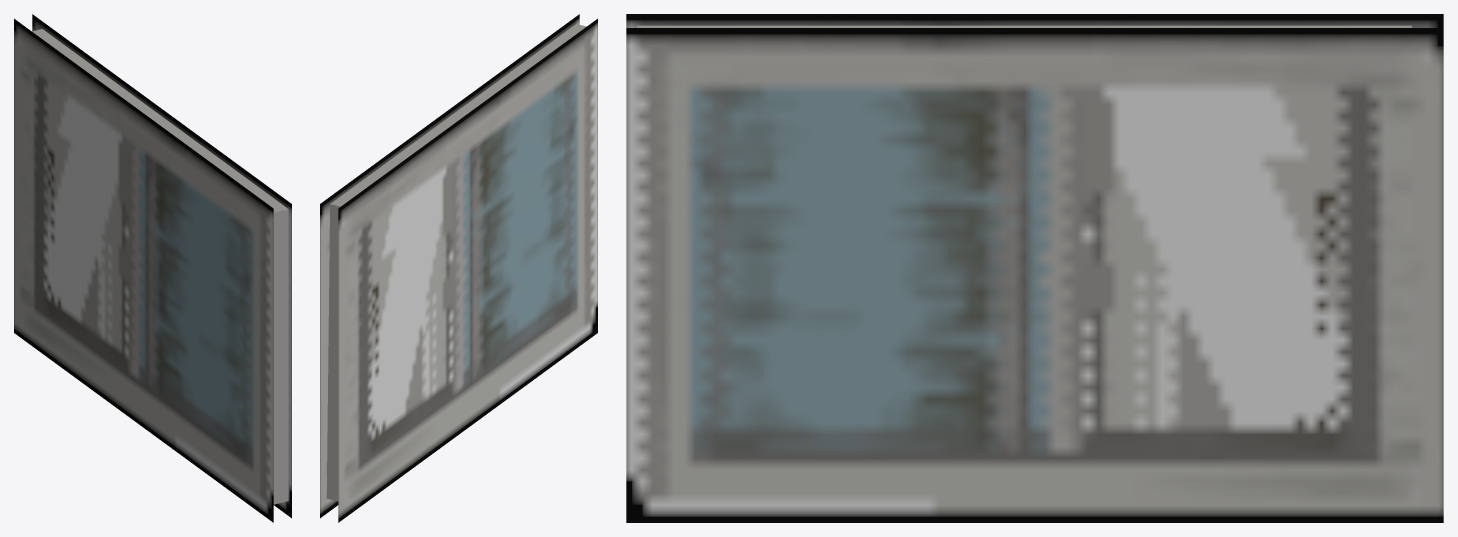
Rendered from pz_native_fixtures_windows_01_26_frame.obj.
3 views of the same model, side by side, from view 1: azimuth 30°, elevation 25°; view 2: azimuth 150°, elevation 25°; view 3: azimuth 270°, elevation 25° (orthographic). The views are drawn at different scales.
Visible parts, largest first — view 1: pz_native_fixtures_windows_01_26_frame; view 2: pz_native_fixtures_windows_01_26_frame; view 3: pz_native_fixtures_windows_01_26_frame.
Boxes of the visible parts, x1,y1,x2,y2 form: pz_native_fixtures_windows_01_26_frame: (14, 14, 291, 522); pz_native_fixtures_windows_01_26_frame: (320, 14, 597, 522); pz_native_fixtures_windows_01_26_frame: (626, 14, 1443, 522).
Size of the model in its own units: 0.04 by 0.6562 by 0.9823.
1 material, 1 textured.
